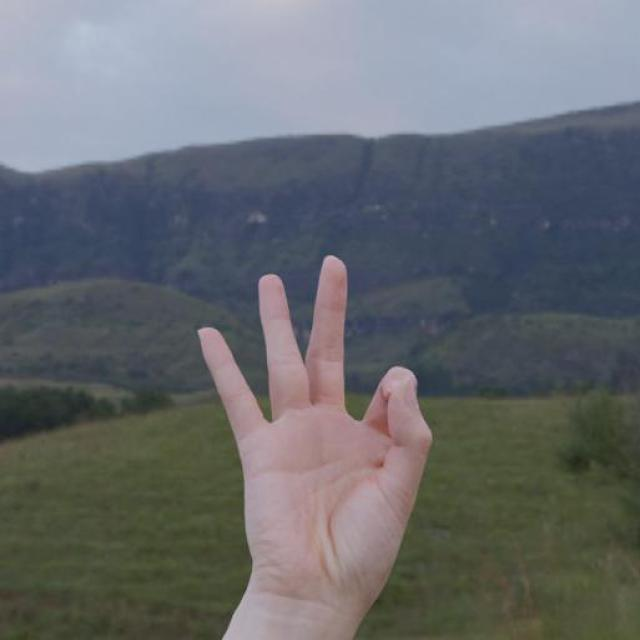F: (196, 251, 442, 624)
